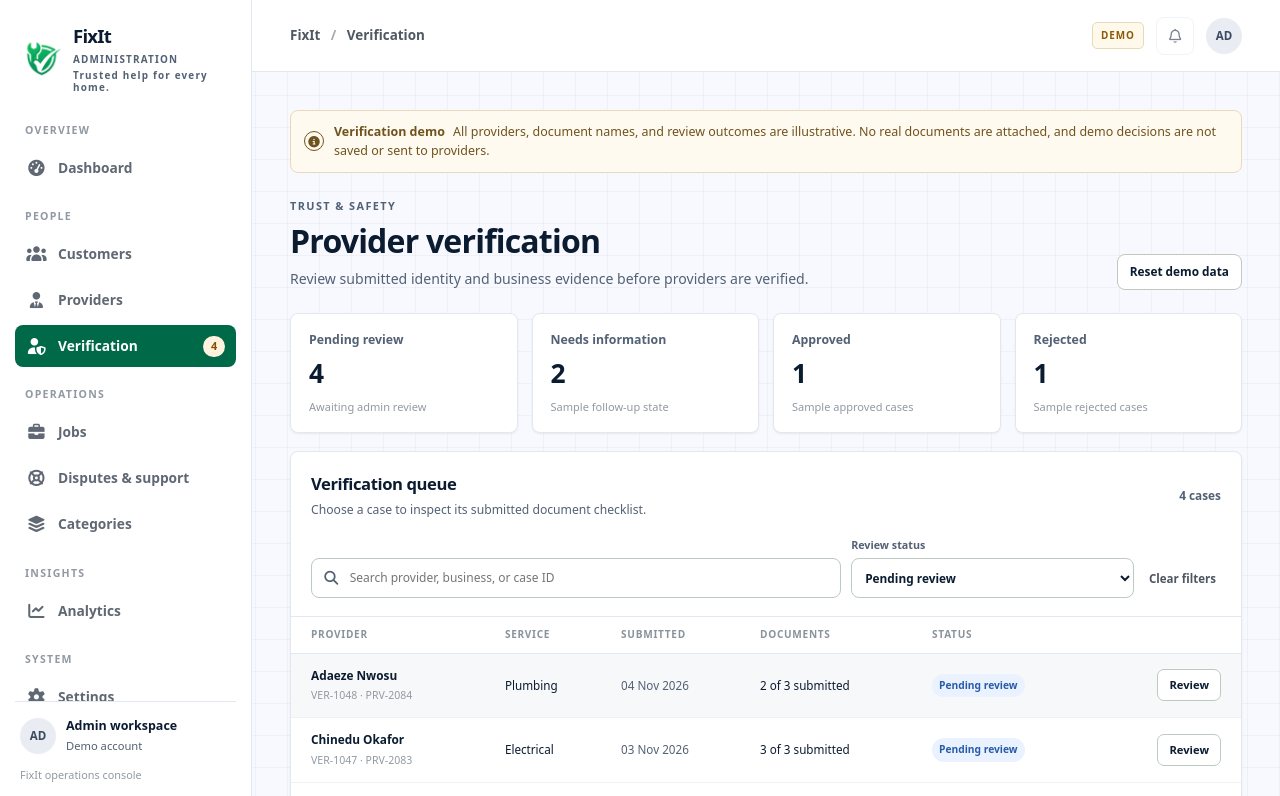
FixIt admin workspace › searches verification cases and filters by review status
Step 1. Type "Chinedu" into the search field named "Search verification cases" → (588,578), box [348,568,829,588]
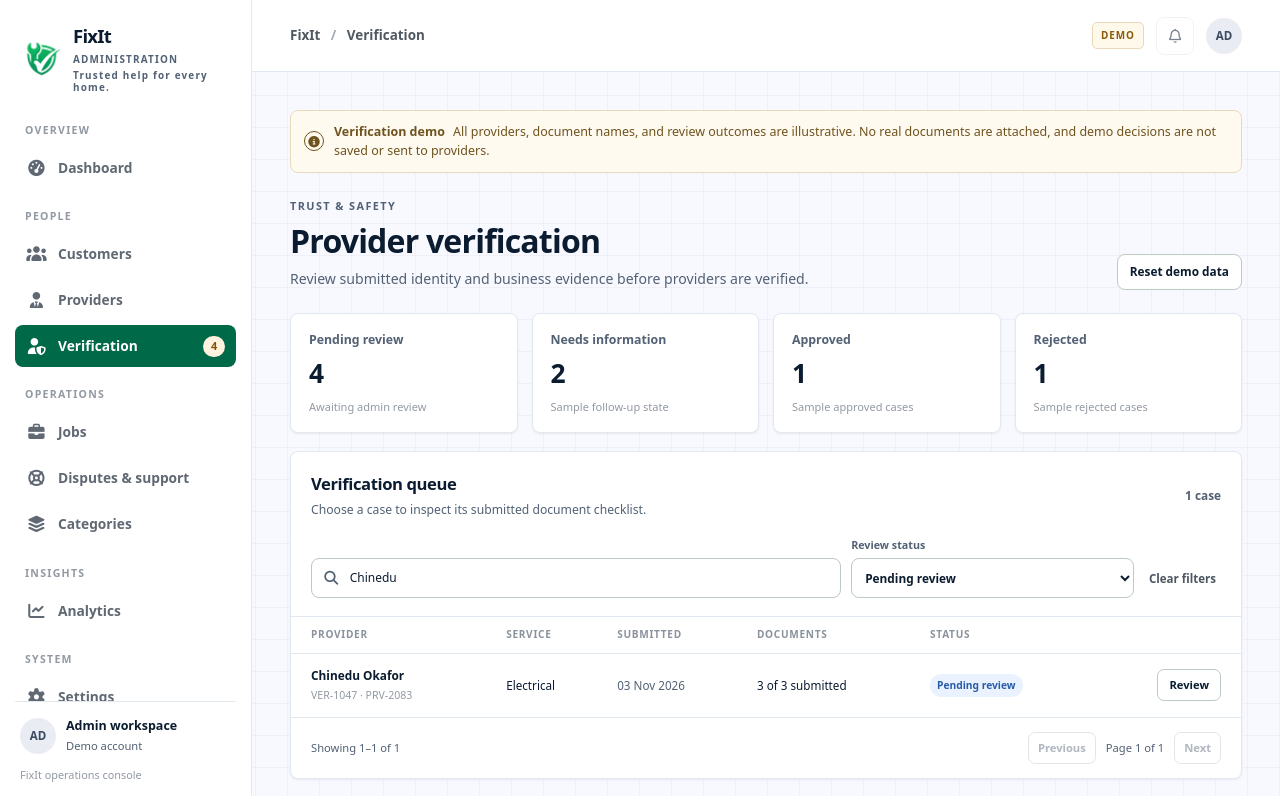
Expected: the text "Chinedu Okafor" is shown, [311,666,404,682]
Expected: the text "Adaeze Nwosu" is gone
Step 2. Clear the search field named "Search verification cases" → (588,578), box [348,568,829,588]
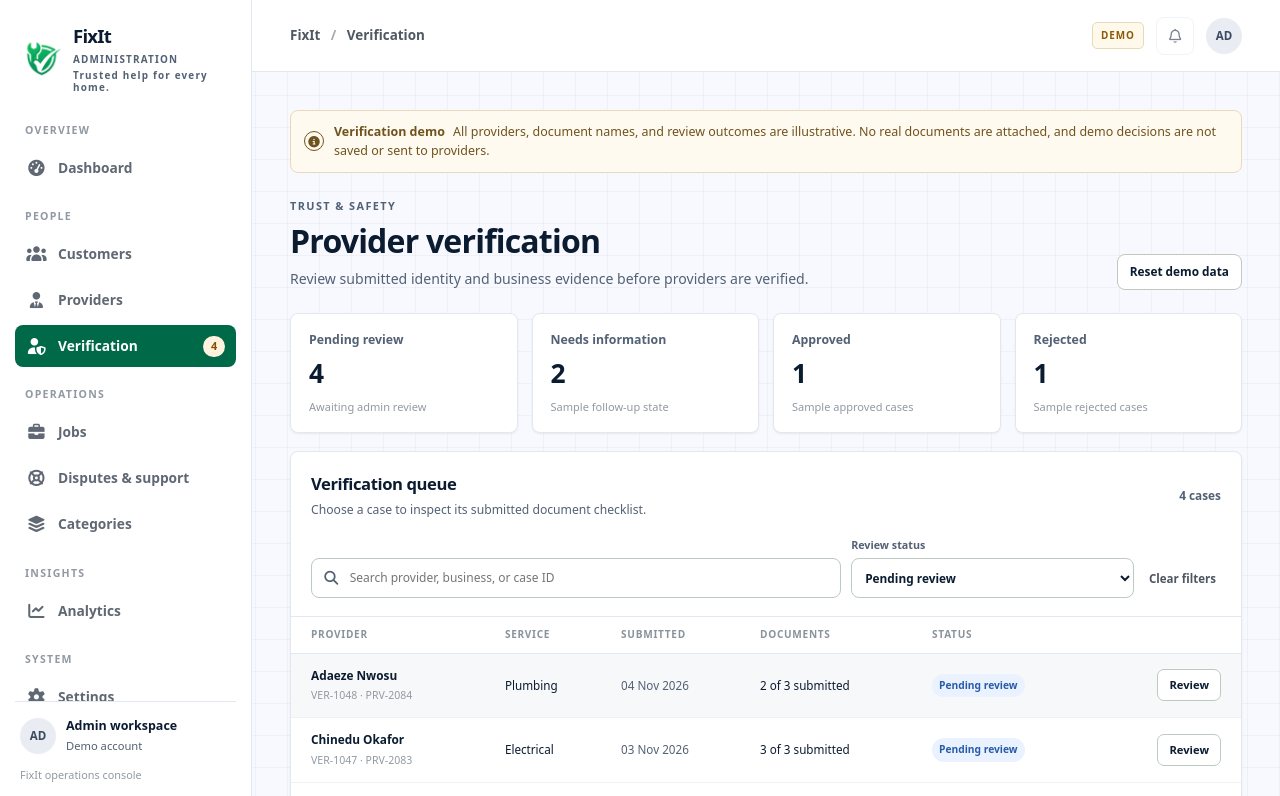
Step 3. Select "Needs information" in the dropdown named "Verification status" → (993,578), box [851,558,1134,598]
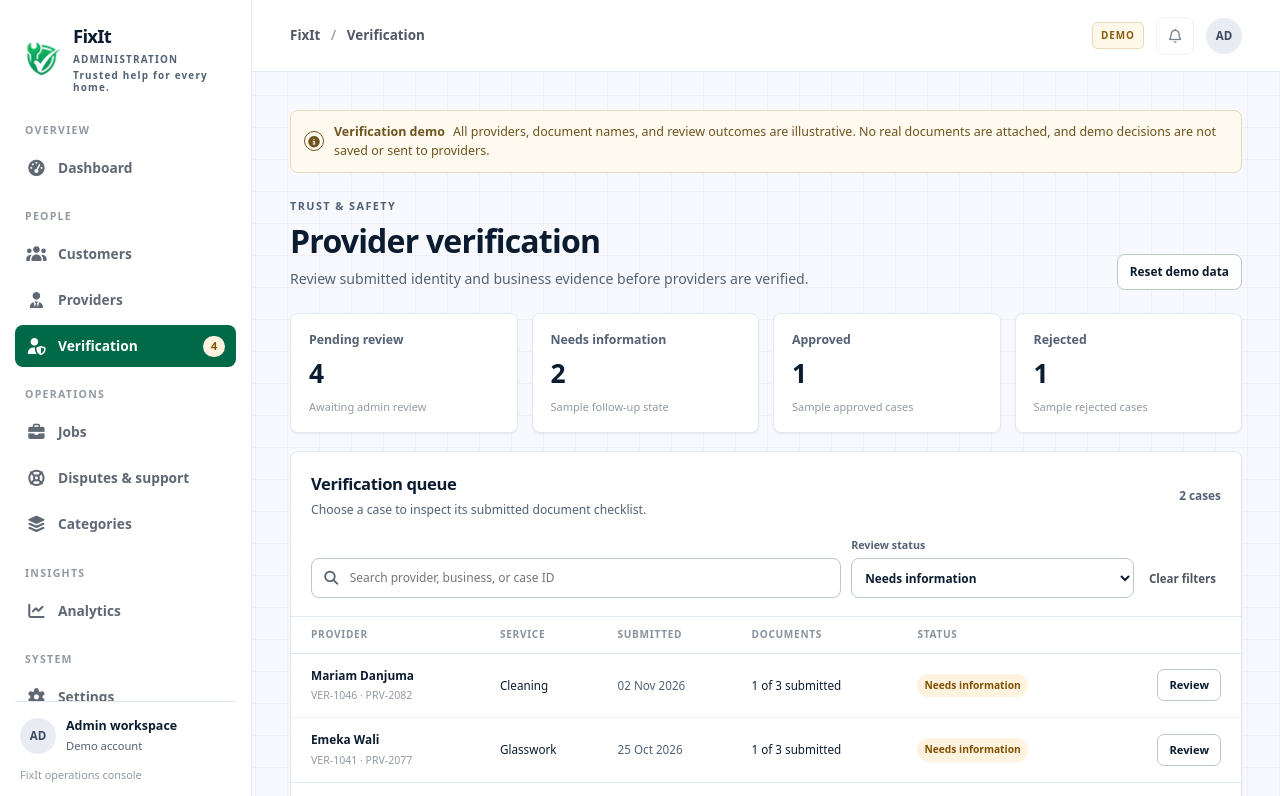
Expected: the text "Mariam Danjuma" is shown, [311,666,414,682]
